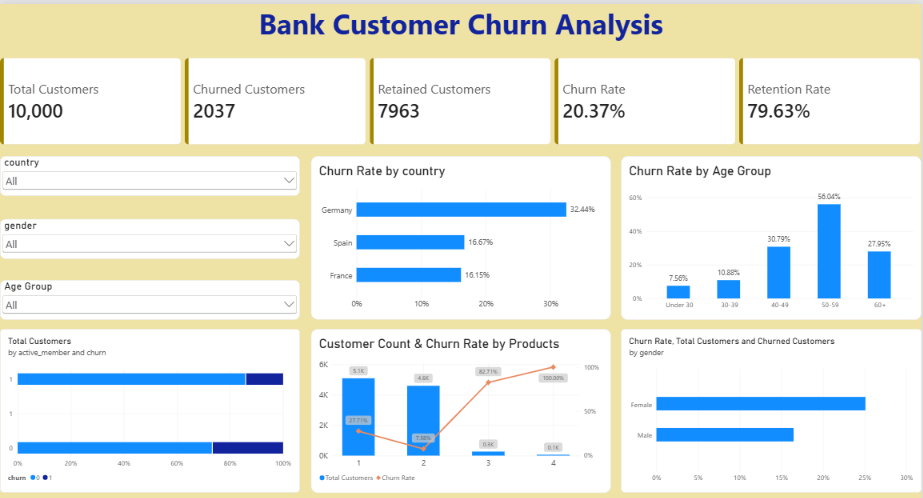

This screenshot's page, from the dashboard's own definition file:
{"tool":"powerbi","page":{"name":"Page 1","canvas":[1920,1080],"ordinal":0},"visuals":[{"type":"cardVisual","fields":{"Data":["all_measures.Total Customers","all_measures.Churned Customers","all_measures.Retained Customers","all_measures.Churn Rate","all_measures.Retention Rate"]},"box":[0,113.3,1920,180],"z":0},{"type":"clusteredBarChart","fields":{"Category":["public bank_churn.country"],"Y":["all_measures.Churn Rate"]},"box":[647.2,317,625,341],"z":1000},{"type":"textbox","box":[0,0,1920.8,113.2],"z":2000},{"type":"clusteredColumnChart","fields":{"Category":["public bank_churn.Age Group"],"Y":["all_measures.Churn Rate"]},"box":[1294.3,317,625.6,341.6],"z":3000},{"type":"lineClusteredColumnComboChart","title":"Customer Count & Churn Rate by Products","fields":{"Category":["public bank_churn.products_number"],"Y":["all_measures.Total Customers"],"Y2":["all_measures.Churn Rate"]},"box":[647.2,677.4,625,341.6],"z":4000},{"type":"hundredPercentStackedBarChart","fields":{"Category":["public bank_churn.active_member"],"Series":["public bank_churn.churn"],"Y":["all_measures.Total Customers"]},"box":[0,677.4,625,341],"z":5000},{"type":"clusteredBarChart","fields":{"Category":["public bank_churn.gender"],"Y":["all_measures.Churn Rate"]},"box":[1294.3,677.4,626,341],"z":5001},{"type":"slicer","fields":{"Values":["public bank_churn.country"]},"box":[0,317,624.5,83],"z":5002},{"type":"slicer","fields":{"Values":["public bank_churn.gender"]},"box":[0,447.2,624.5,83],"z":5003},{"type":"slicer","fields":{"Values":["public bank_churn.Age Group"]},"box":[0,575.5,624.5,83],"z":5004}]}

Visuals, with their boxes on the page's 1920x1080 design canvas (x1, y1, x2, y2). These are canvas units, not pixel positions in the 923x498 screenshot, which may show the page scaled, cropped or inside an application window:
cardVisual - all_measures.Total Customers x all_measures.Churned Customers: region(0, 113, 1920, 293)
clusteredBarChart - public bank_churn.country x all_measures.Churn Rate: region(647, 317, 1272, 658)
textbox: region(0, 0, 1921, 113)
clusteredColumnChart - public bank_churn.Age Group x all_measures.Churn Rate: region(1294, 317, 1920, 659)
"Customer Count & Churn Rate by Products" lineClusteredColumnComboChart: region(647, 677, 1272, 1019)
hundredPercentStackedBarChart - public bank_churn.active_member x public bank_churn.churn: region(0, 677, 625, 1018)
clusteredBarChart - public bank_churn.gender x all_measures.Churn Rate: region(1294, 677, 1920, 1018)
slicer - public bank_churn.country: region(0, 317, 624, 400)
slicer - public bank_churn.gender: region(0, 447, 624, 530)
slicer - public bank_churn.Age Group: region(0, 576, 624, 658)
